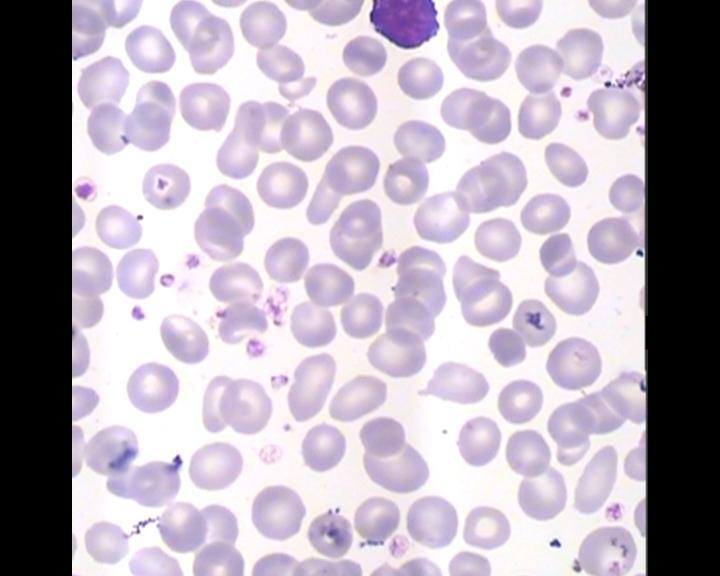baso: (364, 0, 448, 56)
